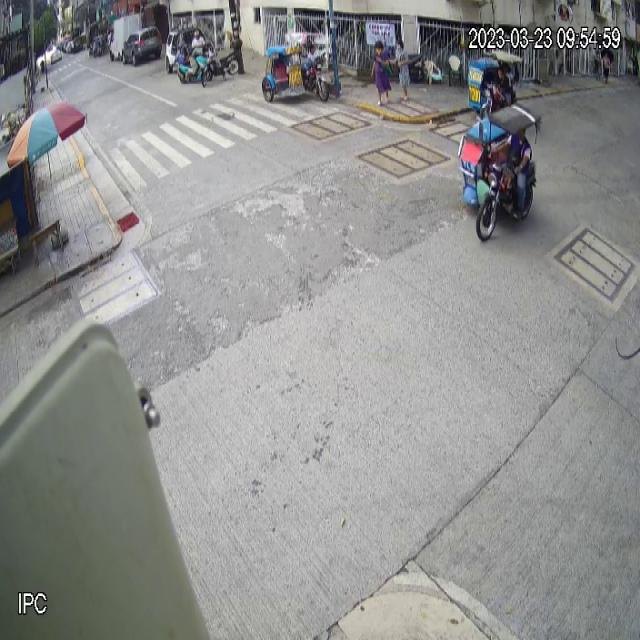Tricycle: (458, 105, 544, 242), (262, 30, 330, 104), (468, 52, 524, 115)
